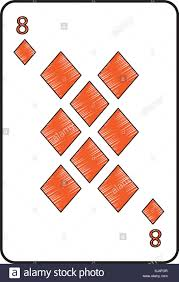eight of diamonds: (4, 3, 177, 261)
